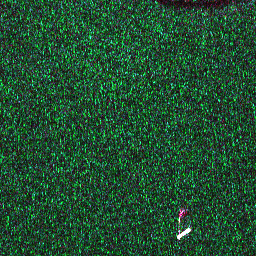ship: (174, 224, 193, 241)
